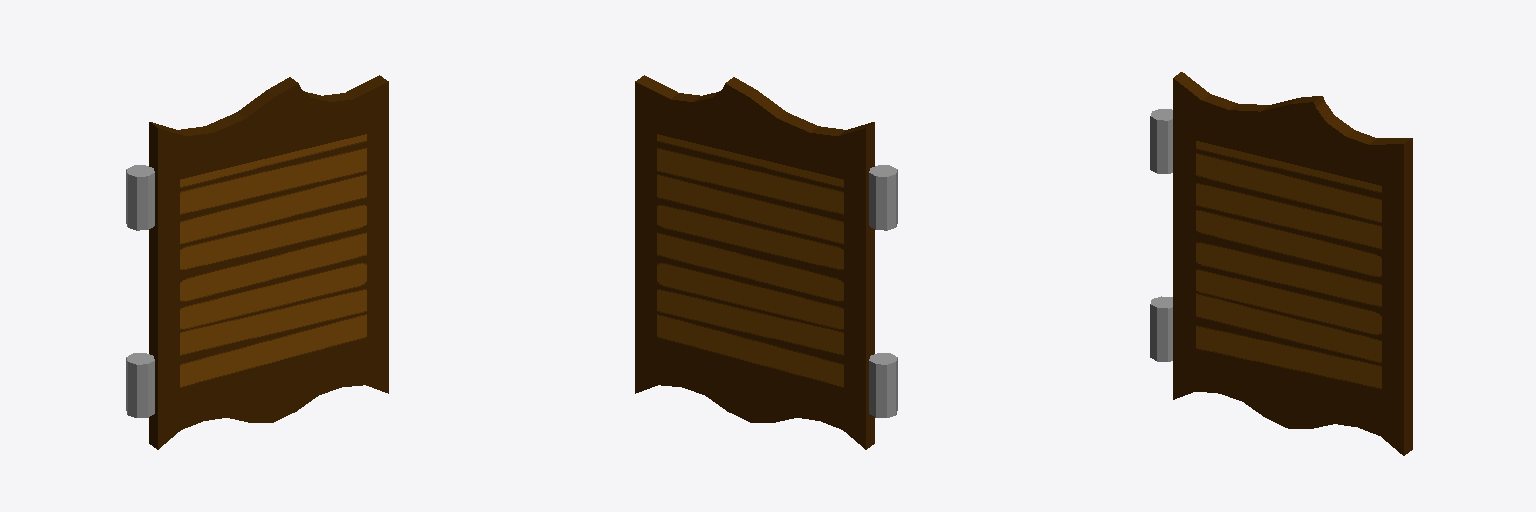
3 views of the same model, side by side, from view 1: azimuth 30°, elevation 25°; view 2: azimuth 150°, elevation 25°; view 3: azimuth 330°, elevation 25° (orthographic).
Parts seen in each view (by area): view 1: Cube; view 2: Cube; view 3: Cube.
Part boxes in pixels (left/top/right/bottom): Cube: left=126, top=75, right=388, bottom=449; Cube: left=635, top=75, right=897, bottom=449; Cube: left=1150, top=72, right=1412, bottom=455.
Size of the model in its own units: 1 by 1.24 by 0.1.
Materials: 2 (1 with a texture image).